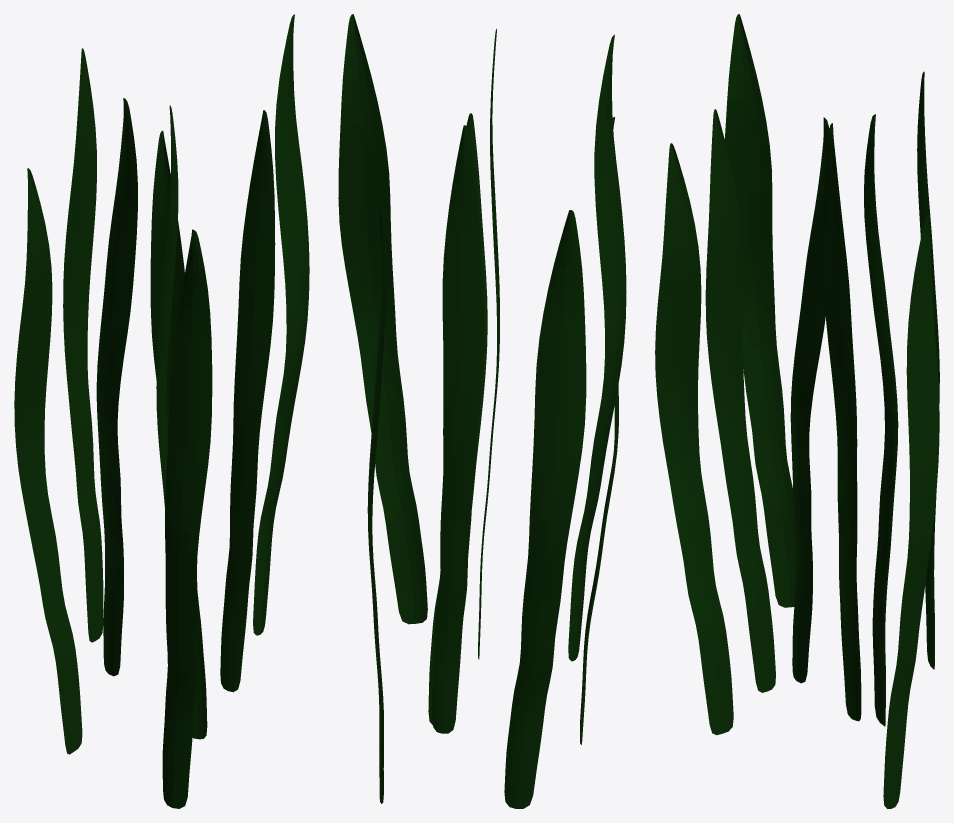
File: AlgaeBetter.gltf
3 views of the same model, side by side, from view 1: azimuth 30°, elevation 25°; view 2: azimuth 150°, elevation 25°; view 3: azimuth 270°, elevation 25° (orthographic). The views are drawn at different scales.
Parts seen in each view (by area): view 1: AlgaeModel; view 2: AlgaeModel; view 3: AlgaeModel.
Part boxes in pixels (box(x1,y1,x2,y2)): AlgaeModel: box(14, 14, 309, 808); AlgaeModel: box(338, 14, 626, 808); AlgaeModel: box(655, 14, 939, 808).
Bounding box in the file's own units: 1.06 × 2.78 × 0.9958.
